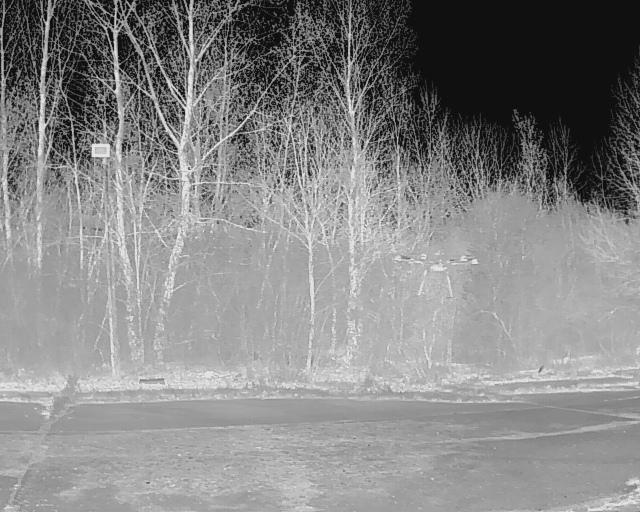drone: (382, 239, 488, 303)
